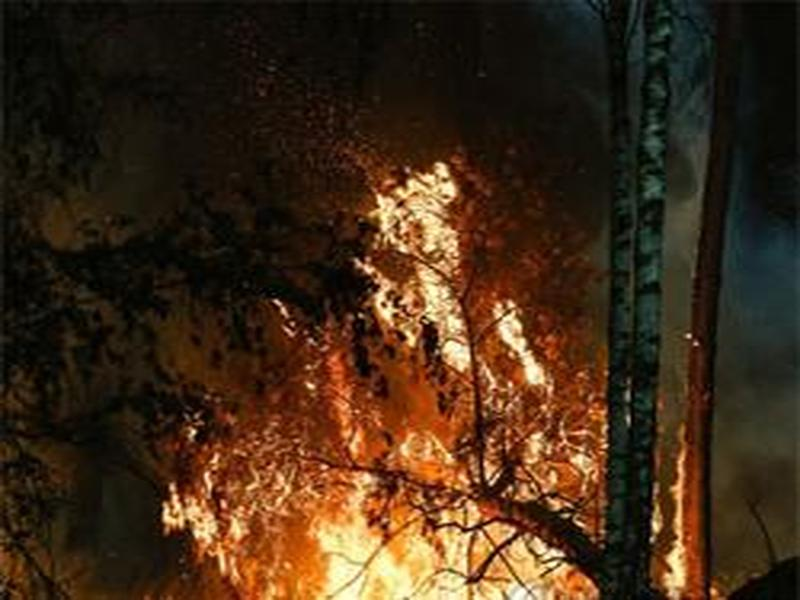FIRE: (137, 212, 683, 600)
